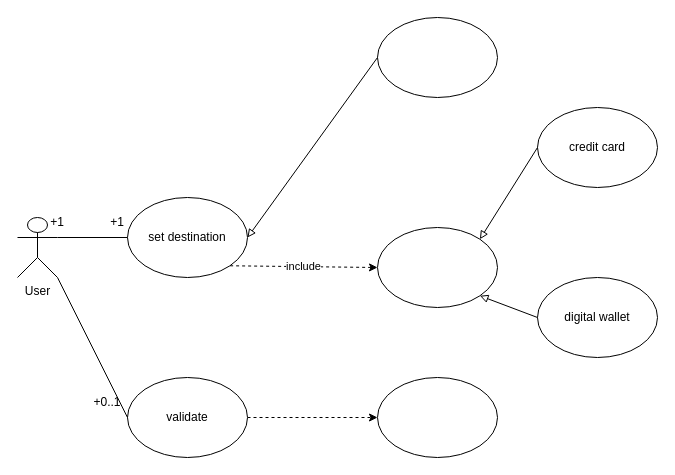
Some shapes in this 675 by 475 pixel diagram are drawn without their labels. Each missing label, with the centre of its shape:
access to the vehicle: the point at 437,417
change destination: the point at 437,57
chose payment mode: the point at 437,267
